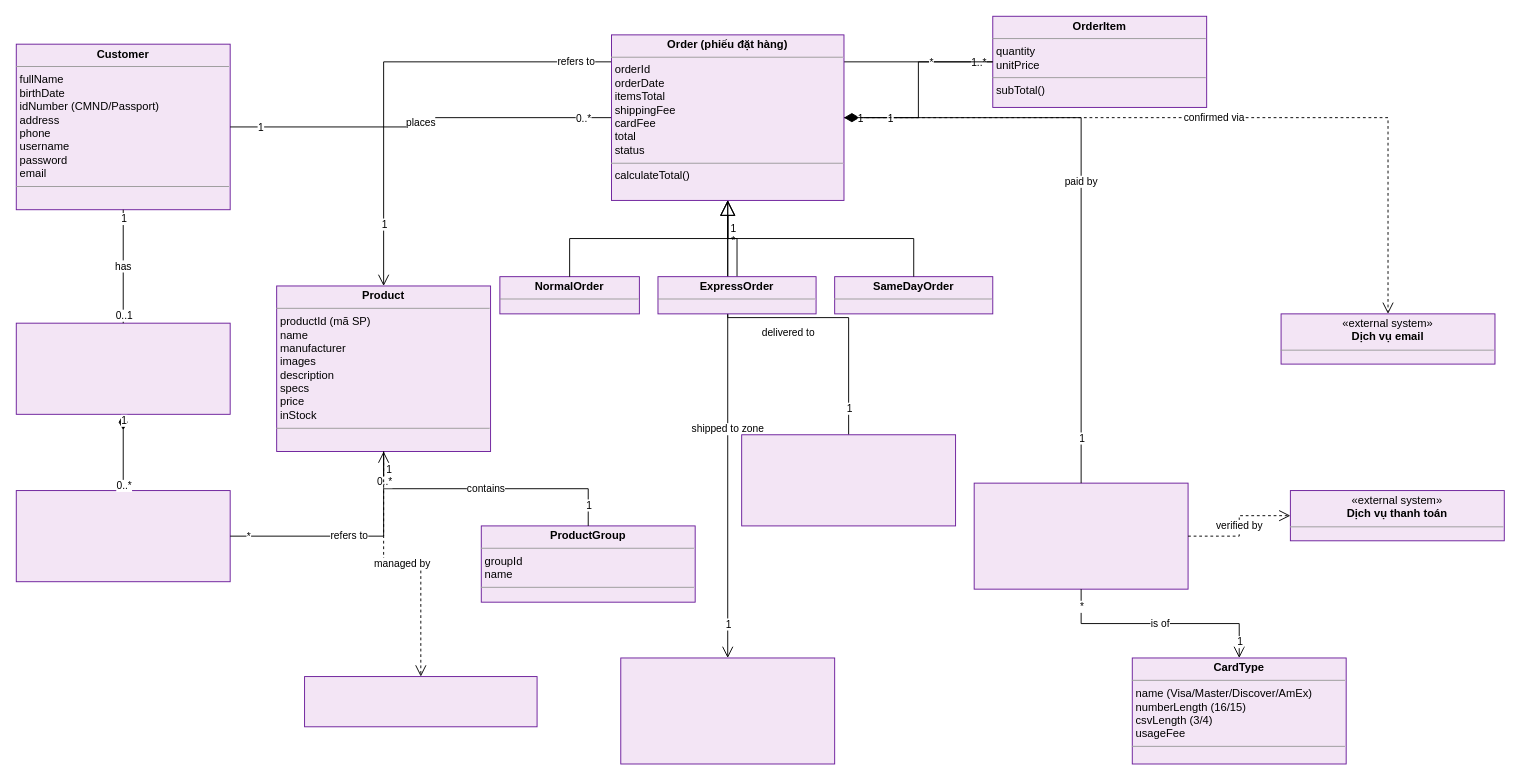
The diagram is 1521 pixels wide and 780 high, and some of its shapes have lost their labels. Here are the shapes that lost their labels. From the top down, the box of each, then its label:
(15, 322, 230, 414): ShoppingCart items add() / remove() / updateQty() total()
(741, 434, 956, 526): Receiver fullName address phone
(15, 490, 230, 582): CartItem quantity unitPrice subTotal()
(973, 482, 1188, 589): CreditCard number expiryDate holderName csv
(304, 676, 537, 727): «external system» Hệ thống quản lý sản phẩm
(620, 657, 835, 764): ShippingZone name normalFee expressFee sameDayFee
